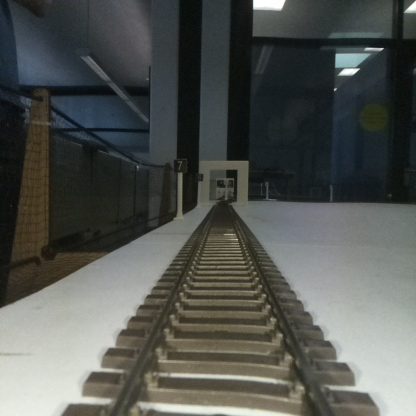black-info-6: (195, 172, 203, 208)
black-info-7: (173, 158, 186, 220)
